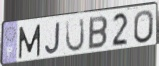2: (112, 11, 131, 49)
B: (87, 15, 108, 52)
J: (44, 21, 62, 55)
M: (18, 23, 42, 60)
O: (133, 9, 155, 45)
U: (64, 17, 86, 54)
